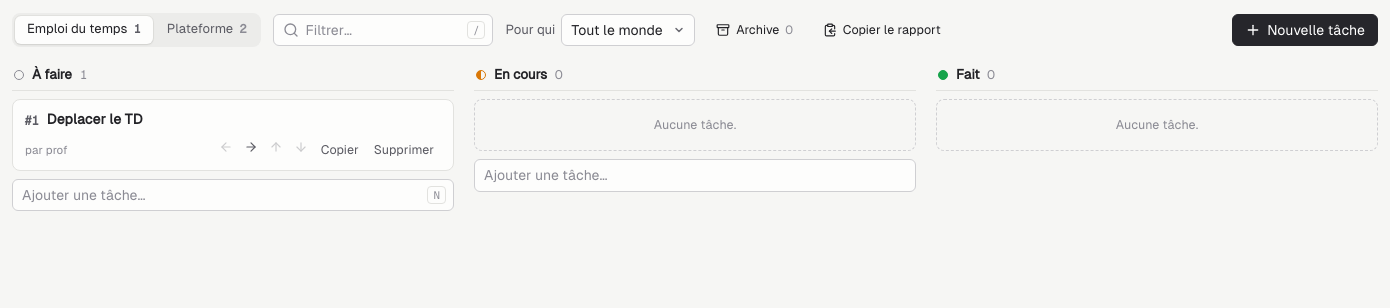
KanbanView › shows two tabs with role=tab/aria-selected and their counts, filtering the board
The width and height of the screenshot is (1390, 308).
Expected: the element named "Catégorie de tâches" is shown, 12,13 -> 262,47
Expected: the tab "Emploi du temps 1" is shown, 15,16 -> 153,44
What coordinates should you click on to do the following:
click the tab "Plateforme 2"
I would click on:
 (207, 30)
Its box is 155,16 -> 258,44.
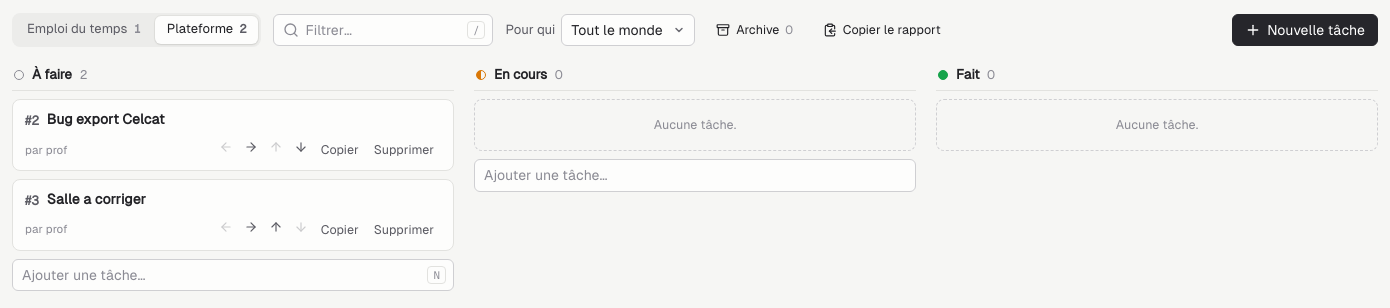
Expected: the button "Deplacer le TD" is gone
Expected: the button "Bug export Celcat" is shown, 47,110 -> 441,129
Expected: the button "Salle a corriger" is shown, 47,190 -> 441,209
